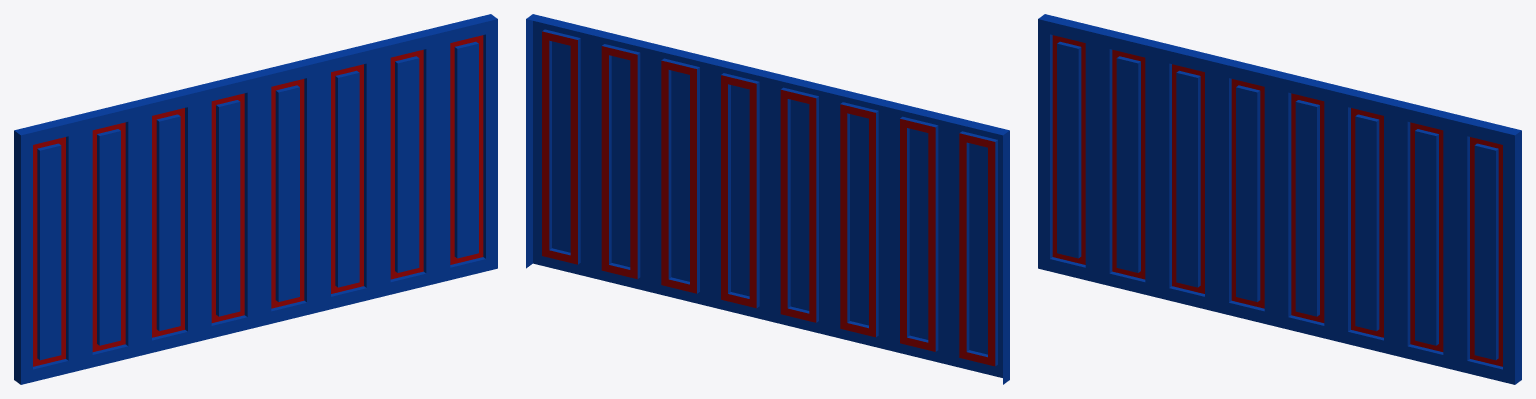
The model's file is WallDetails2M.fbx.
The picture shows the model from 3 angles, left to right: view 1: azimuth 30°, elevation 25°; view 2: azimuth 150°, elevation 25°; view 3: azimuth 330°, elevation 25°; orthographic projection.
Visible parts, largest first — view 1: WallDetails2M; view 2: WallDetails2M; view 3: WallDetails2M.
Part boxes in pixels (x1,y1,x2,y2): WallDetails2M: [14, 14, 497, 384]; WallDetails2M: [526, 14, 1009, 384]; WallDetails2M: [1038, 14, 1521, 384].
Bounding box in the file's own units: 200 × 100 × 5.
